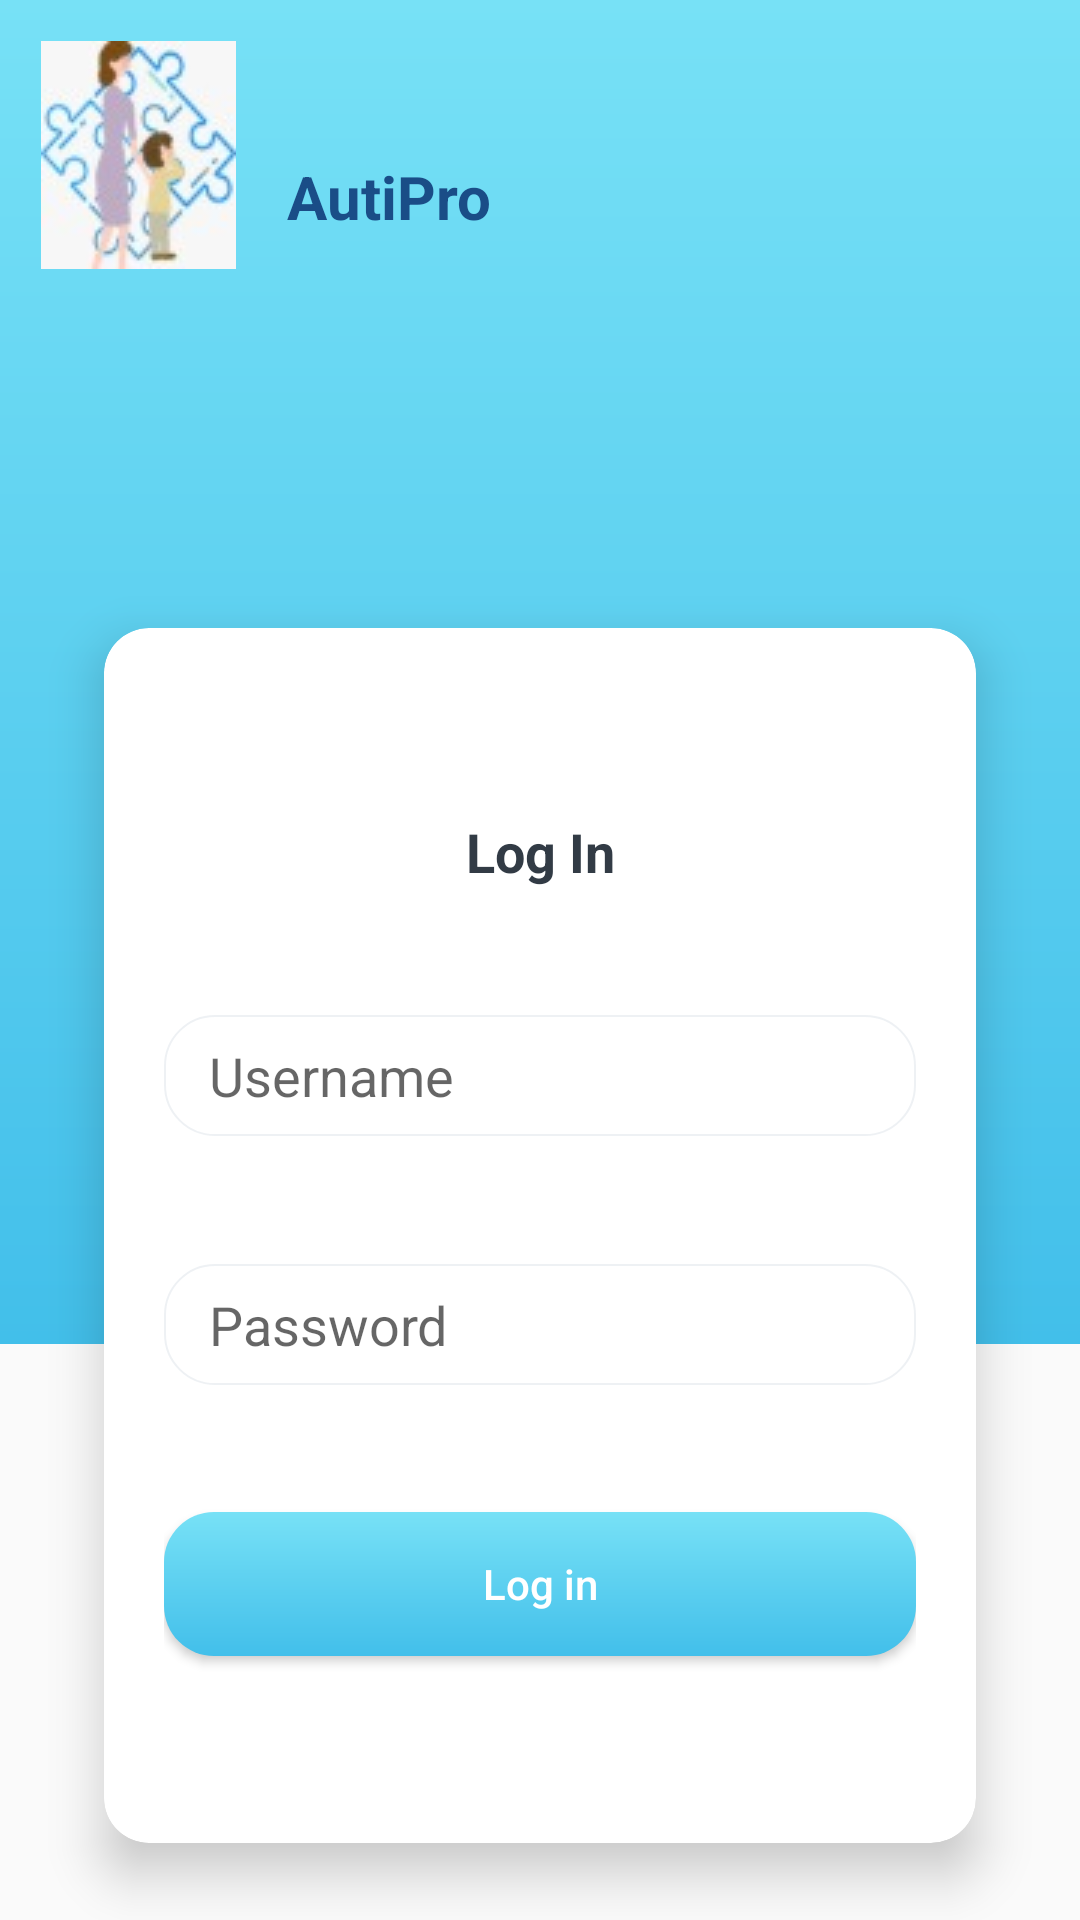

Where icons sit on this 1080×1920 app screen, as {"x1": x1, "y1": y1, "x2": x2, "y2": y2}:
parent with child: {"x1": 41, "y1": 41, "x2": 236, "y2": 269}
